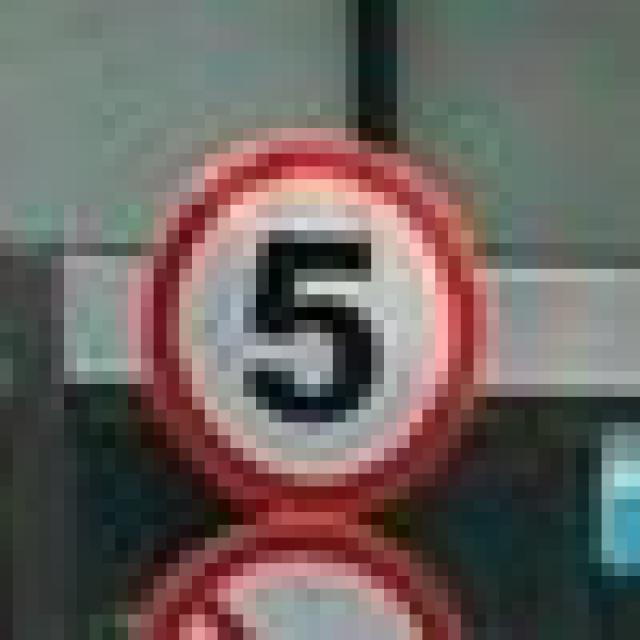speed_limit_20: (128, 115, 486, 512)
